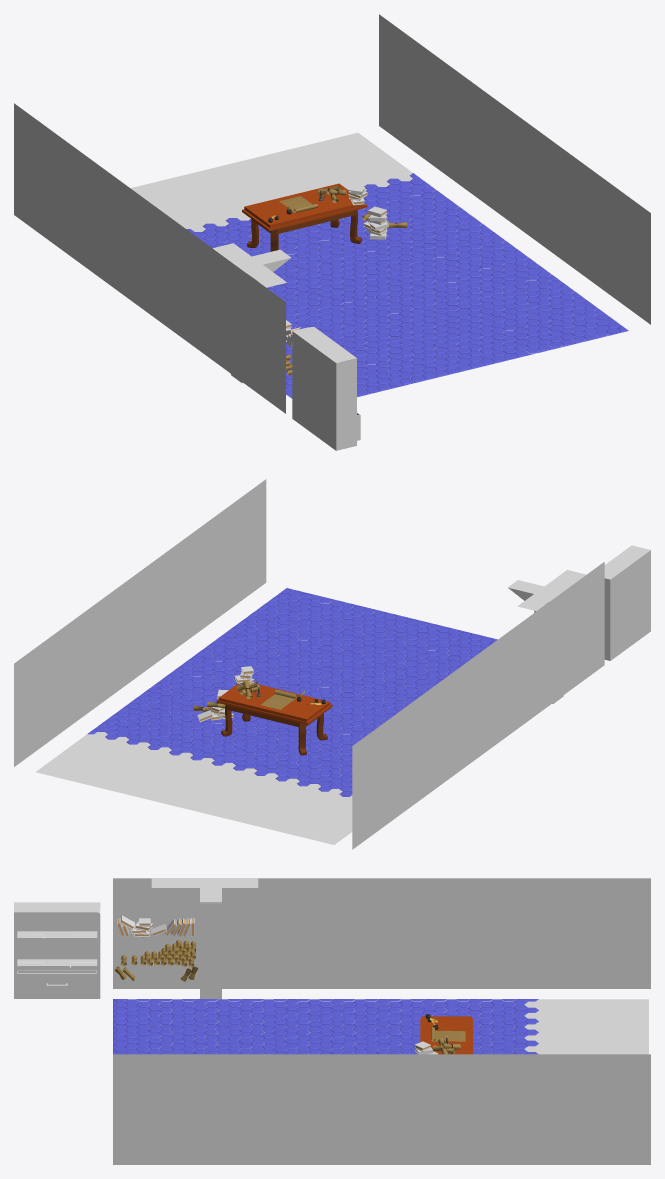
Rendered from Estante_gaveta_1.fbx.
3 views of the same model, one above another, from view 1: azimuth 30°, elevation 25°; view 2: azimuth 150°, elevation 25°; view 3: azimuth 270°, elevation 25° (orthographic). The views are drawn at different scales.
Parts seen in each view (by area): view 1: Plane.037, Plane, Cube, Cube.001, Cube.037, Cube.002; view 2: Plane.037, Plane, Cube, Cube.001, Cube.037, Cube.002; view 3: Plane.037, Cube, Plane, Cube.037, Cube.001.
Boxes of the visible parts, <box> form: Plane.037: <box>14,14,650,413</box>; Plane: <box>130,132,608,398</box>; Cube: <box>292,327,360,450</box>; Cube.001: <box>242,183,367,231</box>; Cube.037: <box>213,243,291,383</box>; Cube.002: <box>247,210,362,251</box>; Plane.037: <box>14,479,604,849</box>; Plane: <box>35,596,469,844</box>; Cube: <box>604,545,650,660</box>; Cube.001: <box>216,684,332,724</box>; Cube.037: <box>508,570,586,703</box>; Cube.002: <box>221,705,327,755</box>; Plane.037: <box>113,878,650,1164</box>; Cube: <box>14,902,100,998</box>; Plane: <box>124,999,648,1054</box>; Cube.037: <box>151,878,258,999</box>; Cube.001: <box>420,1016,472,1054</box>.
Size of the model in its own units: 5614 by 1669 by 8584.
